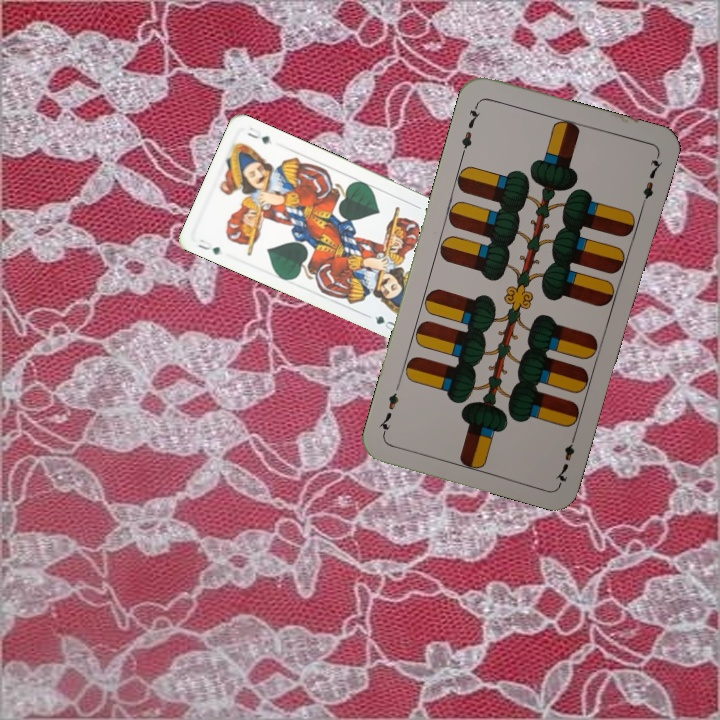E7: (551, 428, 580, 486), (457, 99, 483, 157)
GU: (193, 235, 223, 257)
